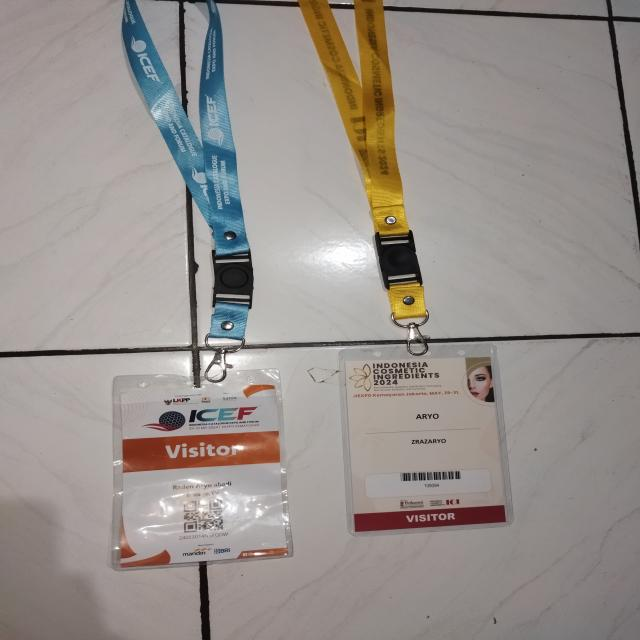ID_card: (109, 368, 292, 571), (338, 344, 514, 536)
